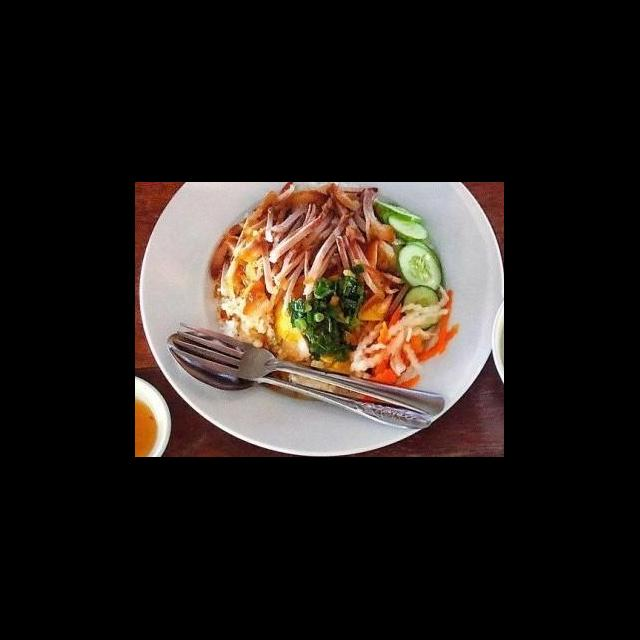com: (212, 288, 282, 352)
dua chua: (346, 284, 462, 390)
suon: (255, 184, 408, 300)
trung: (270, 292, 314, 363)
